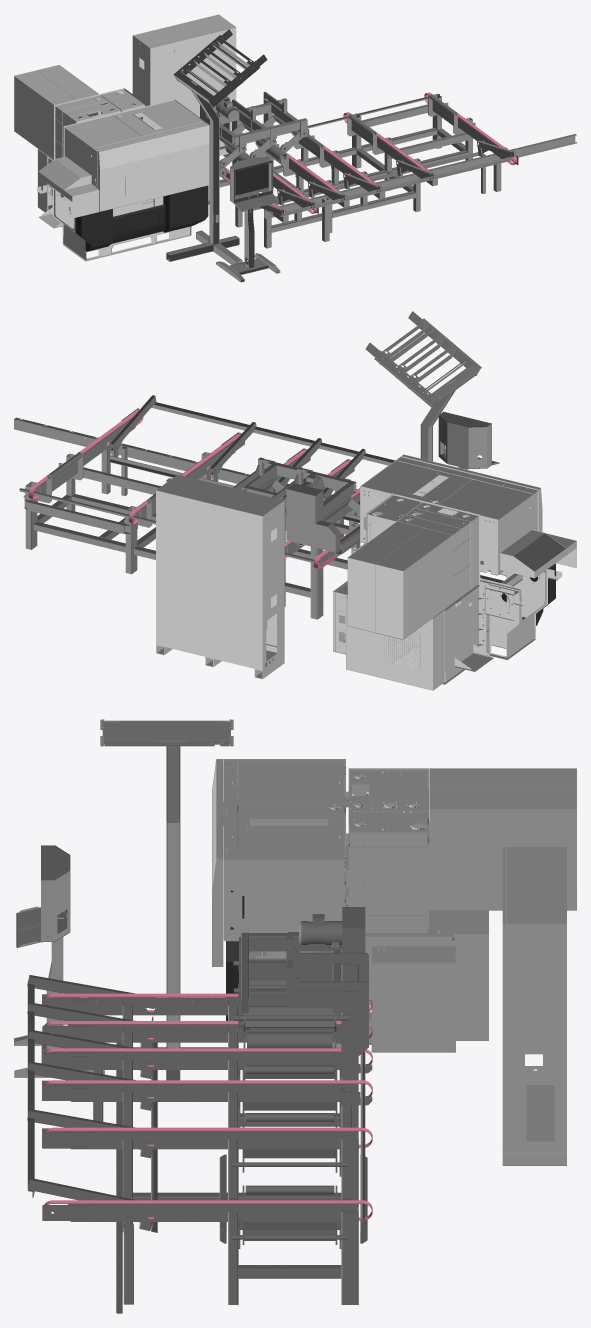
3 renders of one model, top to bottom at view 1: azimuth 30°, elevation 25°; view 2: azimuth 150°, elevation 25°; view 3: azimuth 270°, elevation 25°, orthographic. The views are drawn at different scales.
Parts seen in each view (by area): view 1: object 3, object 1, object 2, object 4, Object001, Object003, Object002; view 2: object 3, object 1, object 4, object 2, Object003; view 3: object 1, object 3, object 4, object 2, Object003, Object001.
Boxes of the visible parts, bbox=[...] form: object 3: bbox=[14, 65, 209, 261]; object 1: bbox=[200, 91, 576, 248]; object 2: bbox=[166, 29, 280, 282]; object 4: bbox=[132, 14, 236, 156]; Object001: bbox=[75, 185, 208, 251]; Object003: bbox=[222, 92, 516, 214]; Object002: bbox=[235, 163, 268, 195]; object 3: bbox=[333, 454, 576, 690]; object 1: bbox=[14, 395, 394, 619]; object 4: bbox=[156, 474, 284, 679]; object 2: bbox=[365, 311, 499, 469]; Object003: bbox=[28, 410, 359, 569]; object 1: bbox=[27, 907, 372, 1313]; object 3: bbox=[212, 759, 576, 1052]; object 4: bbox=[502, 846, 566, 1165]; object 2: bbox=[14, 719, 233, 1080]; Object003: bbox=[44, 993, 372, 1220]; Object001: bbox=[226, 890, 244, 1020].
Size of the model in its own units: 0.2846 by 0.1156 by 0.1576.
